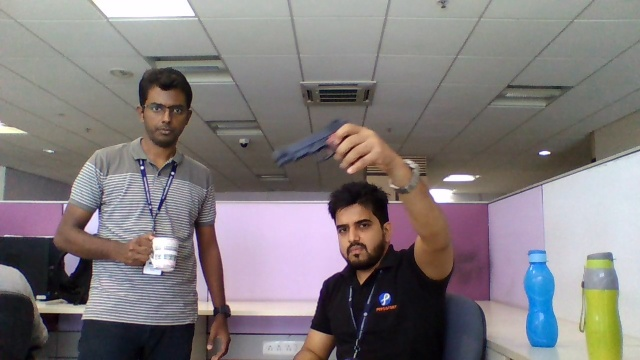gun: (266, 117, 339, 168)
